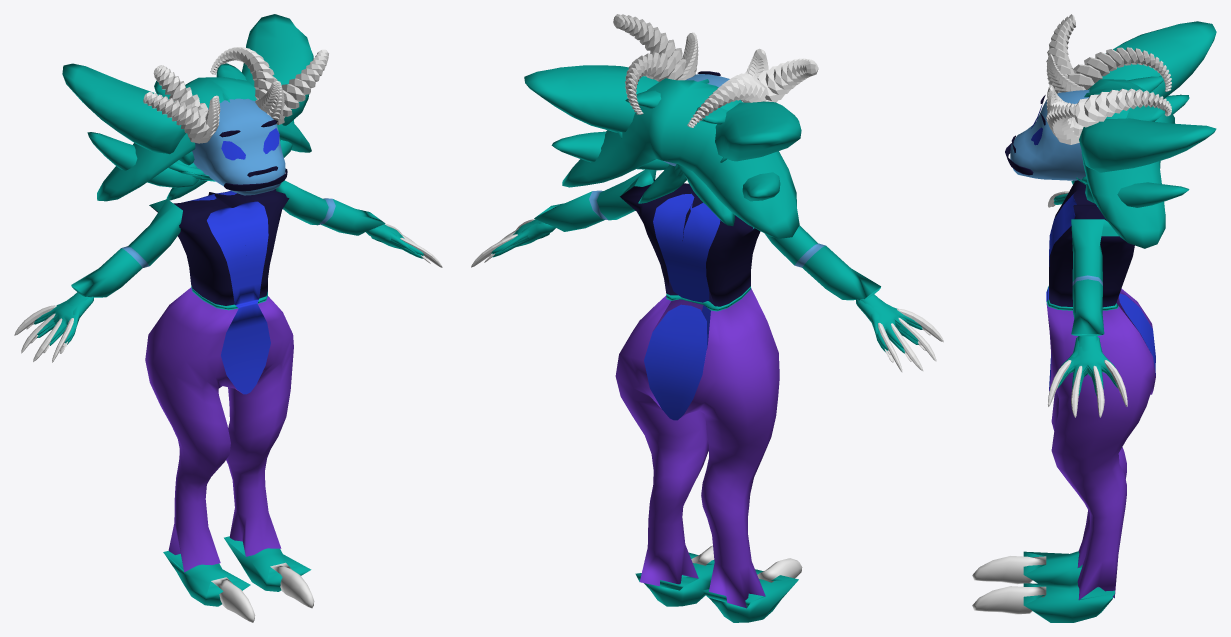
The model's file is Kobold Mk2.fbx.
3 views of the same model, side by side, from view 1: azimuth 30°, elevation 25°; view 2: azimuth 150°, elevation 25°; view 3: azimuth 270°, elevation 25° (orthographic). The views are drawn at different scales.
Parts seen in each view (by area): view 1: Body, Frill1, BodyCenter, Frill2, Horn3, Horn1, Hands3, Horn2, Frill3, Hands2; view 2: Body, Frill2, Frill1, BodyCenter, Horn1, Hands3, Horn3, Horn2, Hands2, Frill3, Hands1; view 3: Body, Frill1, Frill2, Horn1, Hands3, Horn3, BodyCenter, Frill3, Horn2, Hands2.
Part boxes in pixels (left/top/right/bottom): Body: left=71, top=98, right=385, bottom=622; Frill1: left=62, top=14, right=313, bottom=188; BodyCenter: left=185, top=191, right=270, bottom=394; Frill2: left=97, top=77, right=311, bottom=201; Horn3: left=143, top=49, right=328, bottom=138; Horn1: left=153, top=47, right=284, bottom=143; Hands3: left=14, top=224, right=442, bottom=362; Horn2: left=200, top=81, right=284, bottom=138; Frill3: left=154, top=63, right=280, bottom=181; Hands2: left=26, top=224, right=430, bottom=353; Body: left=534, top=71, right=880, bottom=622; Frill2: left=562, top=78, right=799, bottom=238; Frill1: left=524, top=65, right=801, bottom=201; BodyCenter: left=644, top=193, right=720, bottom=420; Horn1: left=625, top=52, right=766, bottom=127; Hands3: left=471, top=219, right=943, bottom=372; Horn3: left=613, top=14, right=818, bottom=102; Horn2: left=682, top=32, right=768, bottom=76; Hands2: left=484, top=219, right=930, bottom=362; Frill3: left=617, top=90, right=727, bottom=162; Hands1: left=489, top=223, right=924, bottom=354; Body: left=972, top=89, right=1155, bottom=622; Frill1: left=1079, top=21, right=1216, bottom=207; Frill2: left=1081, top=79, right=1174, bottom=248; Horn1: left=1057, top=47, right=1171, bottom=144; Hands3: left=1048, top=191, right=1127, bottom=417; Horn3: left=1046, top=14, right=1076, bottom=139; BodyCenter: left=1046, top=194, right=1155, bottom=390; Frill3: left=1076, top=76, right=1164, bottom=184; Horn2: left=1046, top=54, right=1078, bottom=110; Hands2: left=1051, top=193, right=1115, bottom=368.
Size of the model in its own units: 182 by 225 by 91.3.
